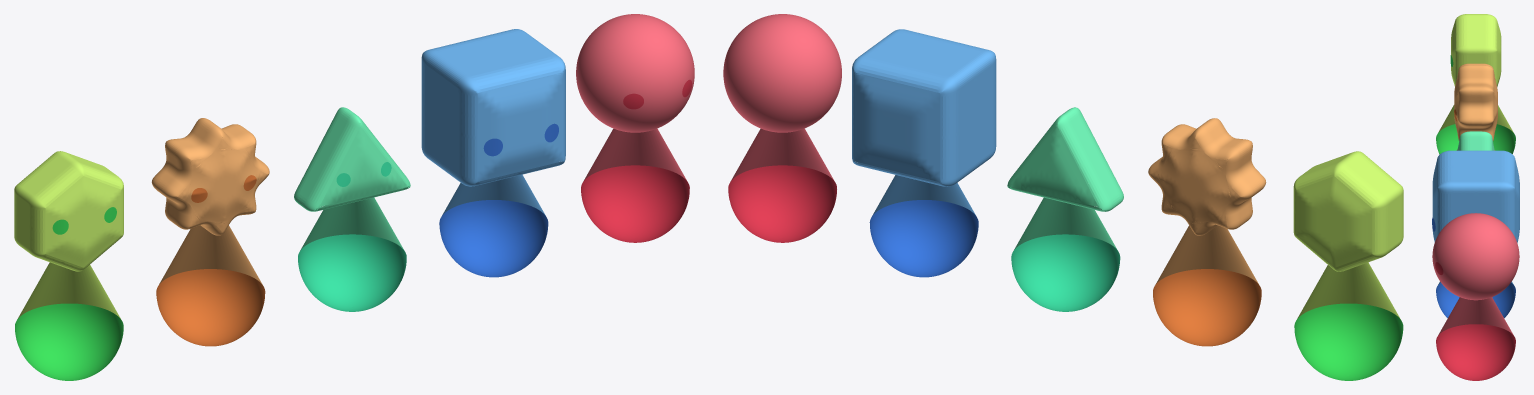
Rendered from cone-guys-all.glb.
3 renders of one model, left to right at view 1: azimuth 30°, elevation 25°; view 2: azimuth 150°, elevation 25°; view 3: azimuth 270°, elevation 25°, orthographic. The views are drawn at different scales.
Visible parts, largest first — view 1: head-shell (×5), bowl (×5), cone (×5); view 2: head-shell (×5), bowl (×5), cone (×5); view 3: head-shell (×5), bowl (×3), cone (×2).
Boxes of the visible parts, x1=… form: head-shell (×5): x1=14, y1=14, x2=694, y2=271; bowl (×5): x1=15, y1=165, x2=689, y2=380; cone (×5): x1=17, y1=128, x2=687, y2=319; head-shell (×5): x1=723, y1=14, x2=1403, y2=271; bowl (×5): x1=728, y1=165, x2=1403, y2=380; cone (×5): x1=730, y1=128, x2=1400, y2=319; head-shell (×5): x1=1432, y1=14, x2=1519, y2=300; bowl (×3): x1=1436, y1=124, x2=1515, y2=380; cone (×2): x1=1438, y1=105, x2=1513, y2=335.
Bounding box in the file's own units: 7.04 × 2.21 × 1.1.
